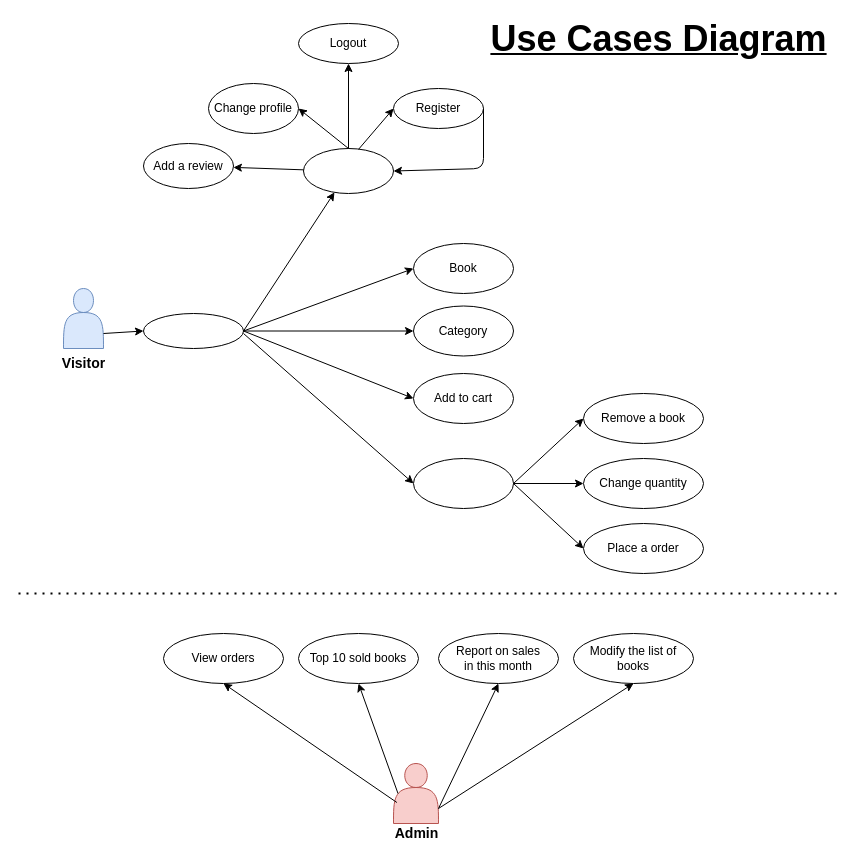
Some shapes in this 857 by 861 pixel diagram are drawn without their labels. The centre of each missing label's shape, as x and y in pixels:
"Go to cart" goes at point 463,483.
"HomePage" goes at point 193,330.
"Login" goes at point 348,171.
